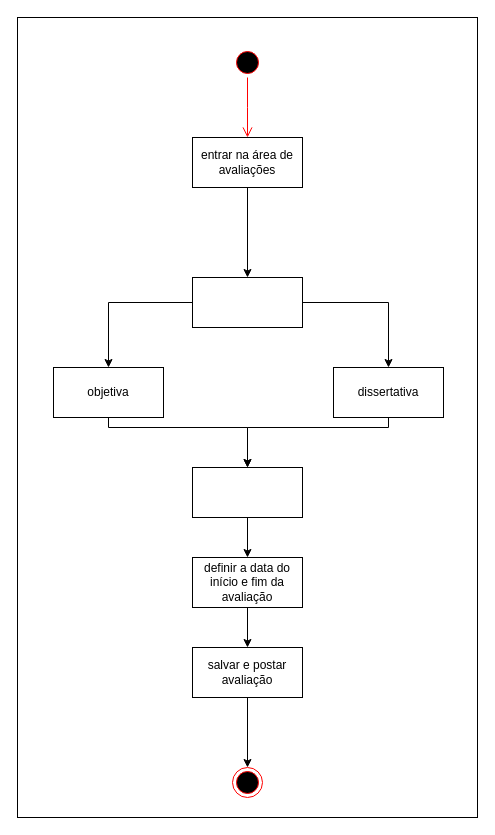
This 495x835 diagram has some shape labels left out. The shapes that lost their labels are listed below. From the top down, each one's box as (x1, y1, x2, y2) in pixels, then its label:
(192, 276, 302, 328): Define o tipo de avaliação
(192, 466, 302, 518): criar questões
